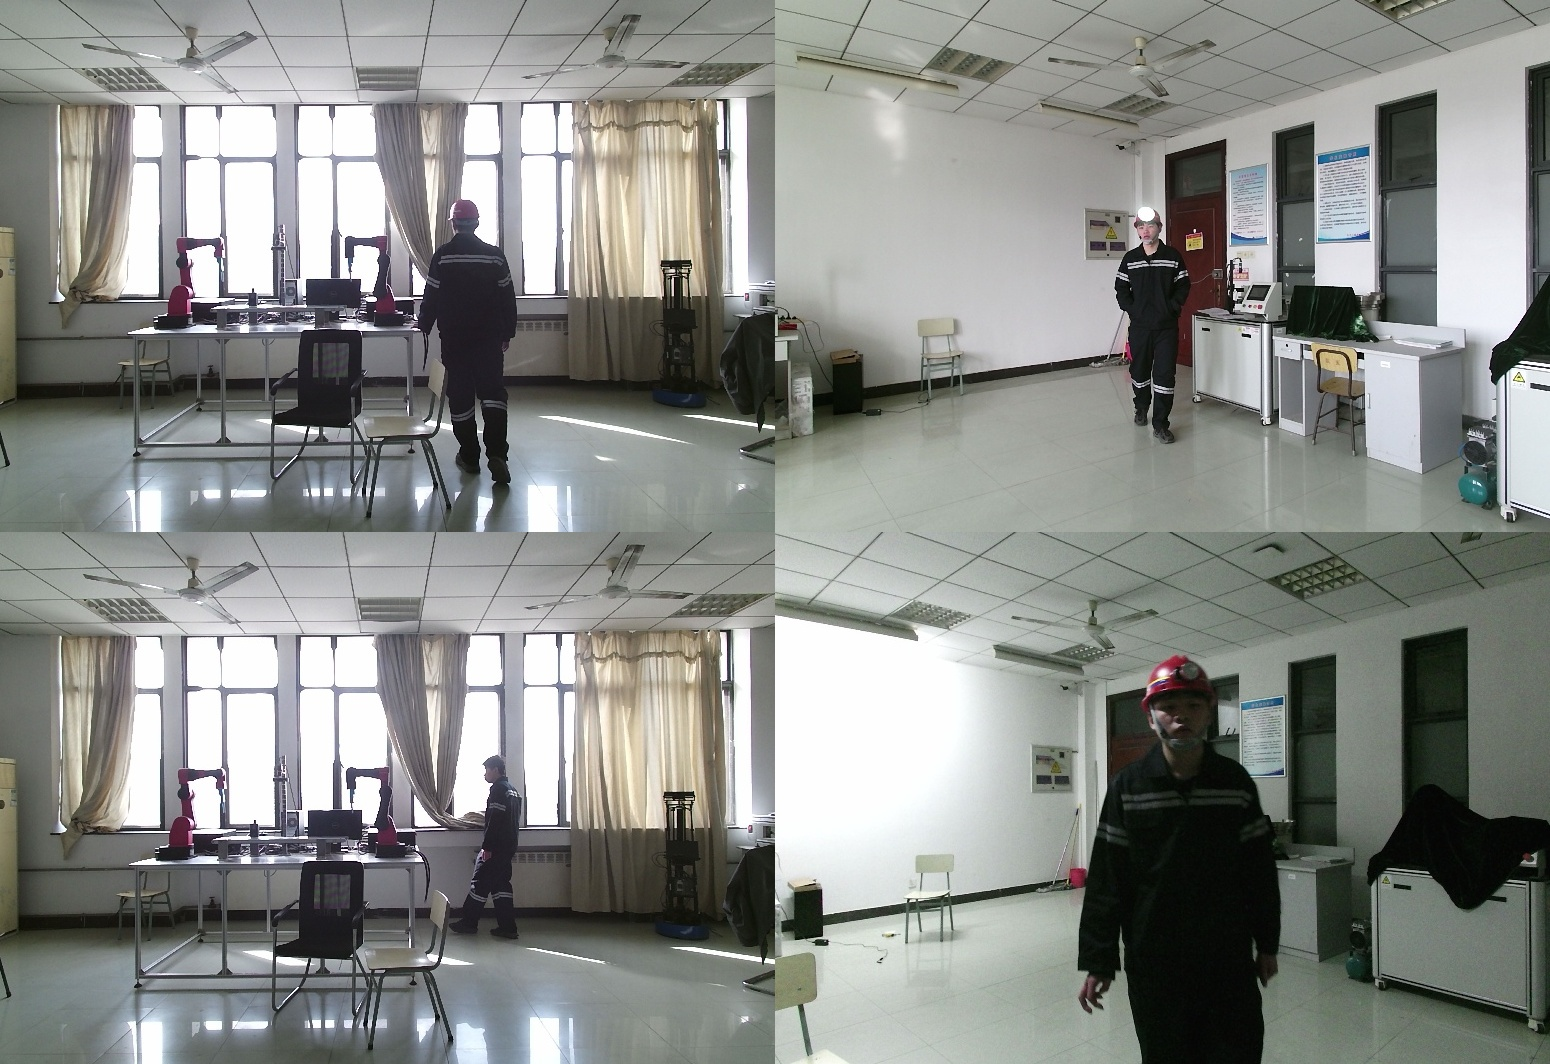person: (1076, 652, 1300, 1064), (422, 200, 527, 514), (1114, 213, 1197, 442), (455, 758, 525, 943)
